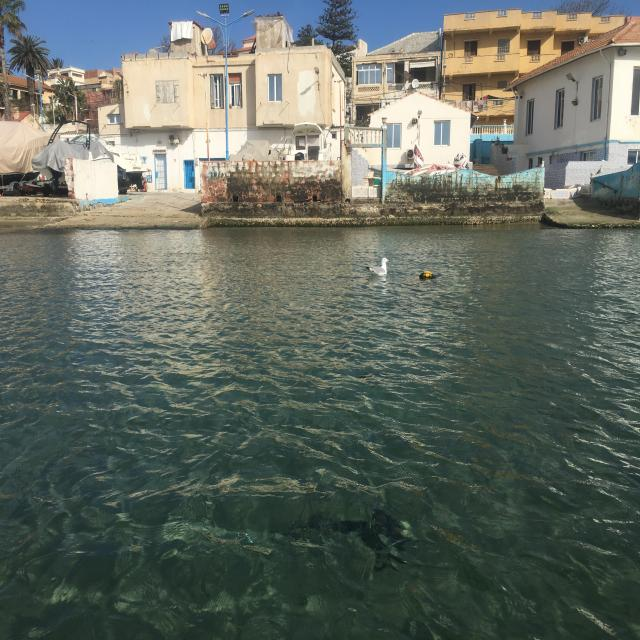Plastic: (418, 270, 437, 281)
